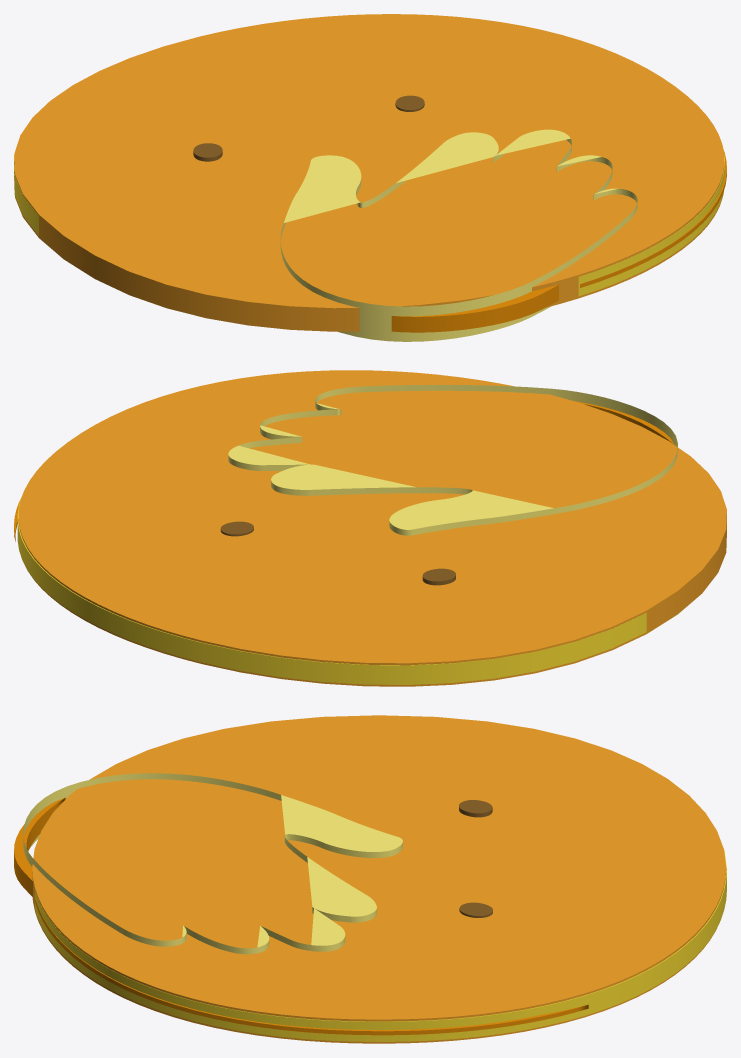
File: emoji_u1fae2.glb
3 views of the same model, one above another, from view 1: azimuth 30°, elevation 25°; view 2: azimuth 150°, elevation 25°; view 3: azimuth 270°, elevation 25° (orthographic). The views are drawn at different scales.
Visible parts, largest first — view 1: emoji_u1fae2; view 2: emoji_u1fae2; view 3: emoji_u1fae2.
Boxes of the visible parts, x1=… form: emoji_u1fae2: x1=14, y1=14, x2=726, y2=341; emoji_u1fae2: x1=14, y1=370, x2=726, y2=686; emoji_u1fae2: x1=14, y1=715, x2=726, y2=1043.
Bounding box in the file's own units: 0.0327 × 0.0018 × 0.0322.
